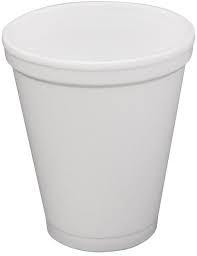Plastic cup: (2, 7, 197, 256)
